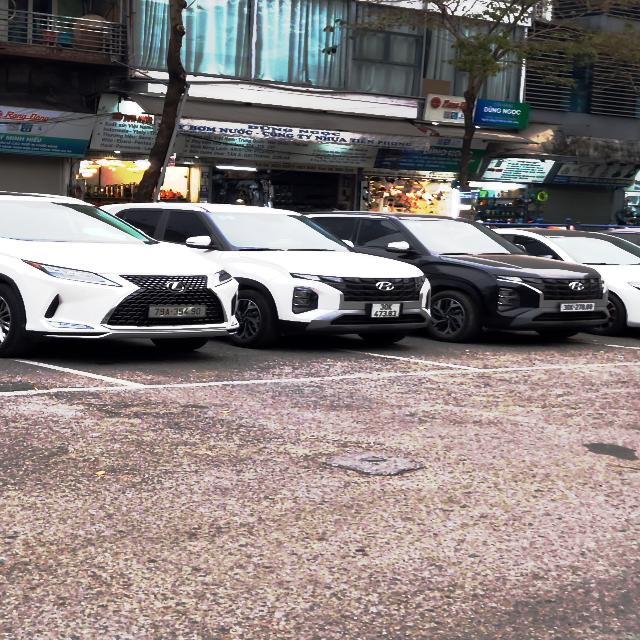license_plate: (150, 306, 208, 318), (372, 303, 402, 318), (561, 303, 597, 313)
